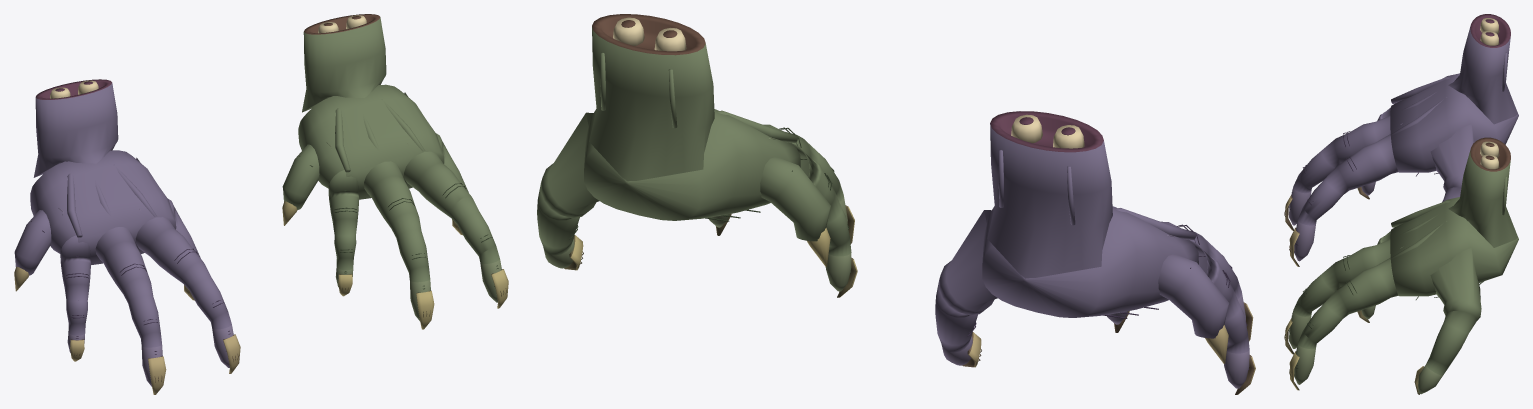
Rendered from handmasters.glb.
The picture shows the model from 3 angles, left to right: view 1: azimuth 30°, elevation 25°; view 2: azimuth 150°, elevation 25°; view 3: azimuth 270°, elevation 25°; orthographic projection. The views are drawn at different scales.
Visible parts, largest first — view 1: Handmaster.1.02.flattened anatomical palm, Handmaster.0.02.flattened anatomical palm, Handmaster.0.19.open wrist cuff, Handmaster.1.19.open wrist cuff, Handmaster.1.04.proximal phalanx, Handmaster.0.04.proximal phalanx, Handmaster.0.25.curled fifth digit, Handmaster.1.25.curled fifth digit, Handmaster.0.14.proximal phalanx, Handmaster.1.14.proximal phalanx, Handmaster.0.16.middle phalanx, Handmaster.1.16.middle phalanx (+26 smaller); view 2: Handmaster.0.02.flattened anatomical palm, Handmaster.1.02.flattened anatomical palm, Handmaster.0.19.open wrist cuff, Handmaster.1.19.open wrist cuff, Handmaster.0.19.flexible wrist fold, Handmaster.1.19.flexible wrist fold, Handmaster.0.25.curled fifth digit, Handmaster.1.25.curled fifth digit, Handmaster.0.21.thumb saddle web, Handmaster.1.21.thumb saddle web, Handmaster.0.23.thumb proximal phalanx, Handmaster.1.23.thumb proximal phalanx (+4 smaller); view 3: Handmaster.1.02.flattened anatomical palm, Handmaster.0.02.flattened anatomical palm, Handmaster.1.19.open wrist cuff, Handmaster.0.19.open wrist cuff, Handmaster.1.21.thumb saddle web, Handmaster.0.04.proximal phalanx, Handmaster.1.04.proximal phalanx, Handmaster.0.21.thumb saddle web, Handmaster.0.19.flexible wrist fold, Handmaster.1.19.flexible wrist fold, Handmaster.1.23.thumb proximal phalanx, Handmaster.1.14.proximal phalanx (+29 smaller).
Boxes of the visible parts, left/top/right/bottom form: Handmaster.1.02.flattened anatomical palm: left=298, top=84, right=444, bottom=199; Handmaster.0.02.flattened anatomical palm: left=30, top=150, right=176, bottom=264; Handmaster.0.19.open wrist cuff: left=35, top=79, right=118, bottom=157; Handmaster.1.19.open wrist cuff: left=303, top=14, right=386, bottom=92; Handmaster.1.04.proximal phalanx: left=416, top=163, right=471, bottom=217; Handmaster.0.04.proximal phalanx: left=148, top=228, right=202, bottom=282; Handmaster.0.25.curled fifth digit: left=14, top=210, right=51, bottom=275; Handmaster.1.25.curled fifth digit: left=282, top=144, right=319, bottom=209; Handmaster.0.14.proximal phalanx: left=103, top=241, right=150, bottom=293; Handmaster.1.14.proximal phalanx: left=371, top=176, right=418, bottom=227; Handmaster.0.16.middle phalanx: left=128, top=295, right=160, bottom=338; Handmaster.1.16.middle phalanx: left=396, top=230, right=428, bottom=272; Handmaster.0.02.flattened anatomical palm: left=982, top=206, right=1198, bottom=317; Handmaster.1.02.flattened anatomical palm: left=584, top=109, right=800, bottom=220; Handmaster.0.19.open wrist cuff: left=990, top=111, right=1112, bottom=229; Handmaster.1.19.open wrist cuff: left=592, top=14, right=714, bottom=132; Handmaster.0.19.flexible wrist fold: left=987, top=199, right=1111, bottom=278; Handmaster.1.19.flexible wrist fold: left=589, top=103, right=713, bottom=181; Handmaster.0.25.curled fifth digit: left=1158, top=254, right=1229, bottom=338; Handmaster.1.25.curled fifth digit: left=760, top=157, right=830, bottom=241; Handmaster.0.21.thumb saddle web: left=946, top=210, right=997, bottom=311; Handmaster.1.21.thumb saddle web: left=548, top=112, right=599, bottom=214; Handmaster.0.23.thumb proximal phalanx: left=935, top=298, right=977, bottom=345; Handmaster.1.23.thumb proximal phalanx: left=537, top=199, right=579, bottom=248; Handmaster.1.02.flattened anatomical palm: left=1390, top=197, right=1518, bottom=296; Handmaster.0.02.flattened anatomical palm: left=1390, top=73, right=1518, bottom=172; Handmaster.1.19.open wrist cuff: left=1459, top=137, right=1510, bottom=222; Handmaster.0.19.open wrist cuff: left=1459, top=14, right=1510, bottom=99; Handmaster.1.21.thumb saddle web: left=1430, top=248, right=1481, bottom=308; Handmaster.0.04.proximal phalanx: left=1337, top=142, right=1390, bottom=190; Handmaster.1.04.proximal phalanx: left=1337, top=266, right=1390, bottom=314; Handmaster.0.21.thumb saddle web: left=1430, top=124, right=1474, bottom=181; Handmaster.0.19.flexible wrist fold: left=1448, top=75, right=1517, bottom=124; Handmaster.1.19.flexible wrist fold: left=1448, top=198, right=1518, bottom=247; Handmaster.1.23.thumb proximal phalanx: left=1430, top=322, right=1468, bottom=366; Handmaster.1.14.proximal phalanx: left=1334, top=245, right=1376, bottom=286.
Bounding box in the file's own units: 134 × 63.17 × 62.64.
